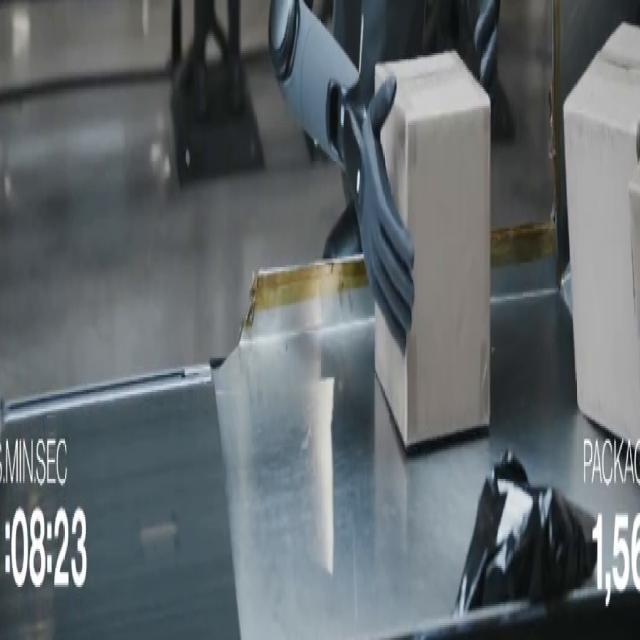package: (375, 53, 490, 449), (564, 24, 639, 440), (455, 452, 597, 614), (630, 166, 639, 362)
